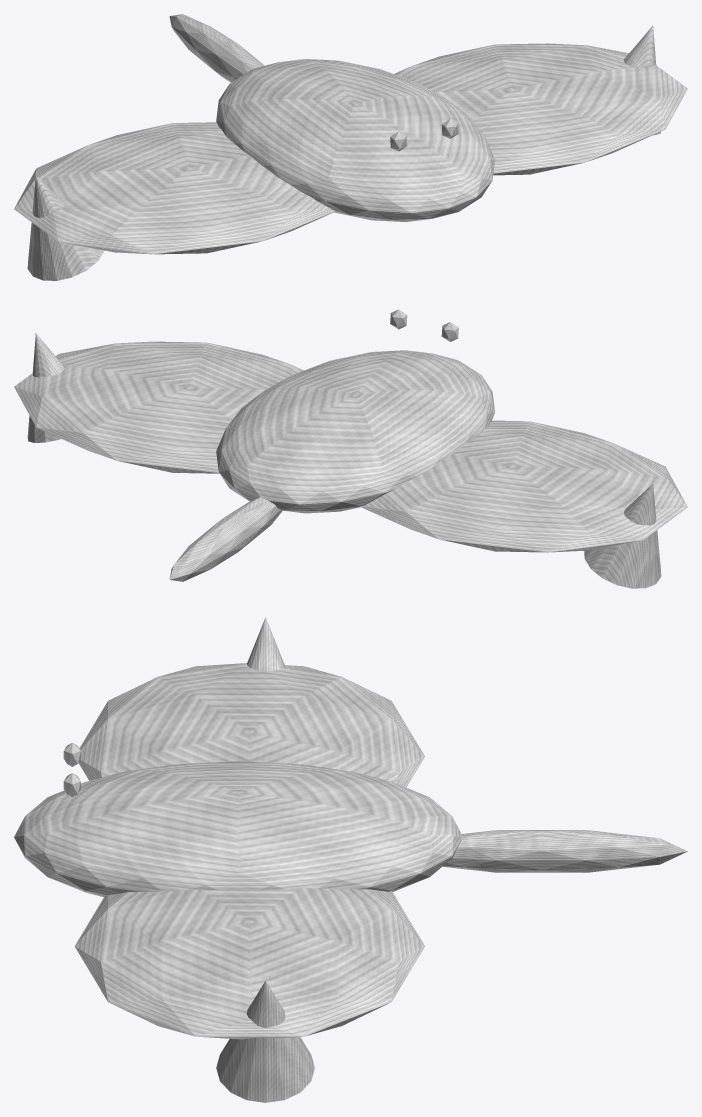
Rendered from fauna-giant-flying-manta_variant_d.glb.
3 views of the same model, one above another, from view 1: azimuth 30°, elevation 25°; view 2: azimuth 150°, elevation 25°; view 3: azimuth 270°, elevation 25° (orthographic). The views are drawn at different scales.
Parts seen in each view (by area): view 1: Manta central body.003, Manta wing.006, Manta wing.007, Wing tip.006, Manta tail.003, Wing tip.007; view 2: Manta central body.003, Manta wing.006, Manta wing.007, Manta tail.003, Wing tip.006, Wing tip.007; view 3: Manta central body.003, Manta wing.007, Manta wing.006, Manta tail.003, Wing tip.007, Wing tip.006.
Boxes of the visible parts, bbox=[...] form: Manta central body.003: bbox=[216, 59, 494, 221]; Manta wing.006: bbox=[14, 122, 335, 254]; Manta wing.007: bbox=[394, 43, 687, 175]; Wing tip.006: bbox=[27, 176, 104, 280]; Manta tail.003: bbox=[169, 14, 264, 82]; Wing tip.007: bbox=[623, 26, 660, 135]; Manta central body.003: bbox=[216, 350, 494, 513]; Manta wing.006: bbox=[360, 420, 687, 552]; Manta wing.007: bbox=[14, 341, 303, 473]; Manta tail.003: bbox=[169, 497, 282, 581]; Wing tip.006: bbox=[584, 484, 661, 588]; Wing tip.007: bbox=[27, 333, 64, 442]; Manta central body.003: bbox=[14, 761, 461, 897]; Manta wing.007: bbox=[74, 888, 424, 1039]; Manta wing.006: bbox=[78, 663, 424, 787]; Manta tail.003: bbox=[442, 830, 687, 872]; Wing tip.007: bbox=[216, 981, 314, 1102]; Wing tip.006: bbox=[247, 617, 285, 670].
Size of what is drawn, in the model's own units: 3.9 by 0.7938 by 3.
3 materials, 3 textured.
